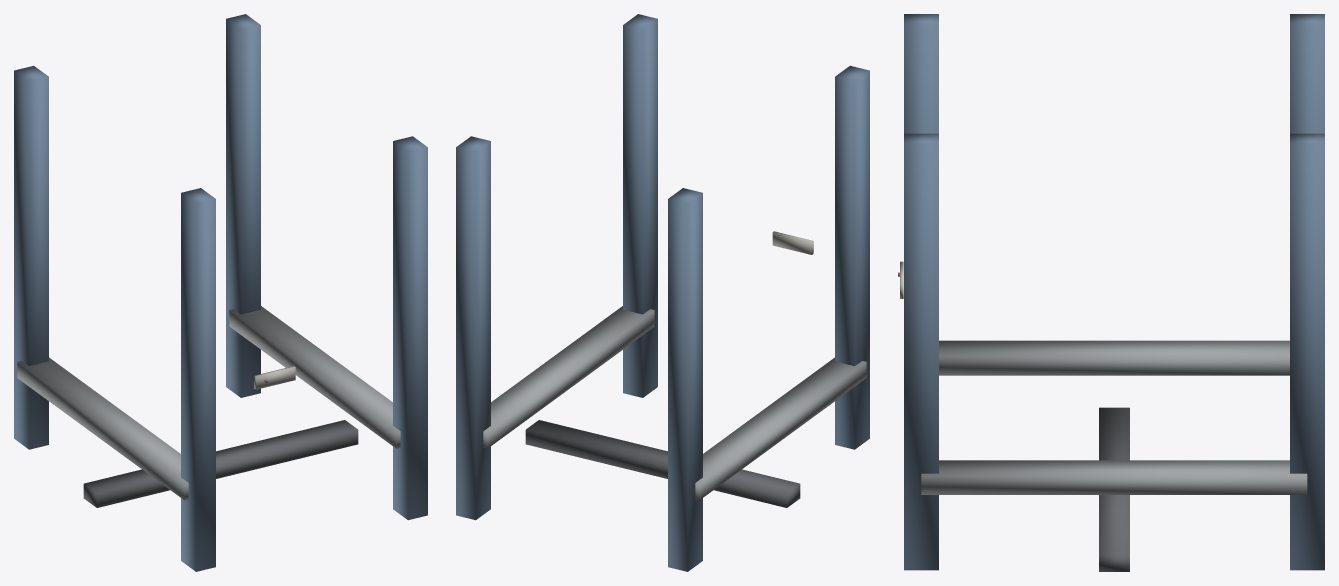
The model's file is four_post_car_lift__compact.glb.
3 renders of one model, left to right at view 1: azimuth 30°, elevation 25°; view 2: azimuth 150°, elevation 25°; view 3: azimuth 270°, elevation 25°, orthographic. The views are drawn at different scales.
Parts seen in each view (by area): view 1: world; view 2: world; view 3: world.
Boxes of the visible parts, x1,y1,x2,y2 form: world: (14,14,427,571); world: (456,14,869,571); world: (898,14,1324,571).
Size of the model in its own units: 1.55 by 2.09 by 1.9.
